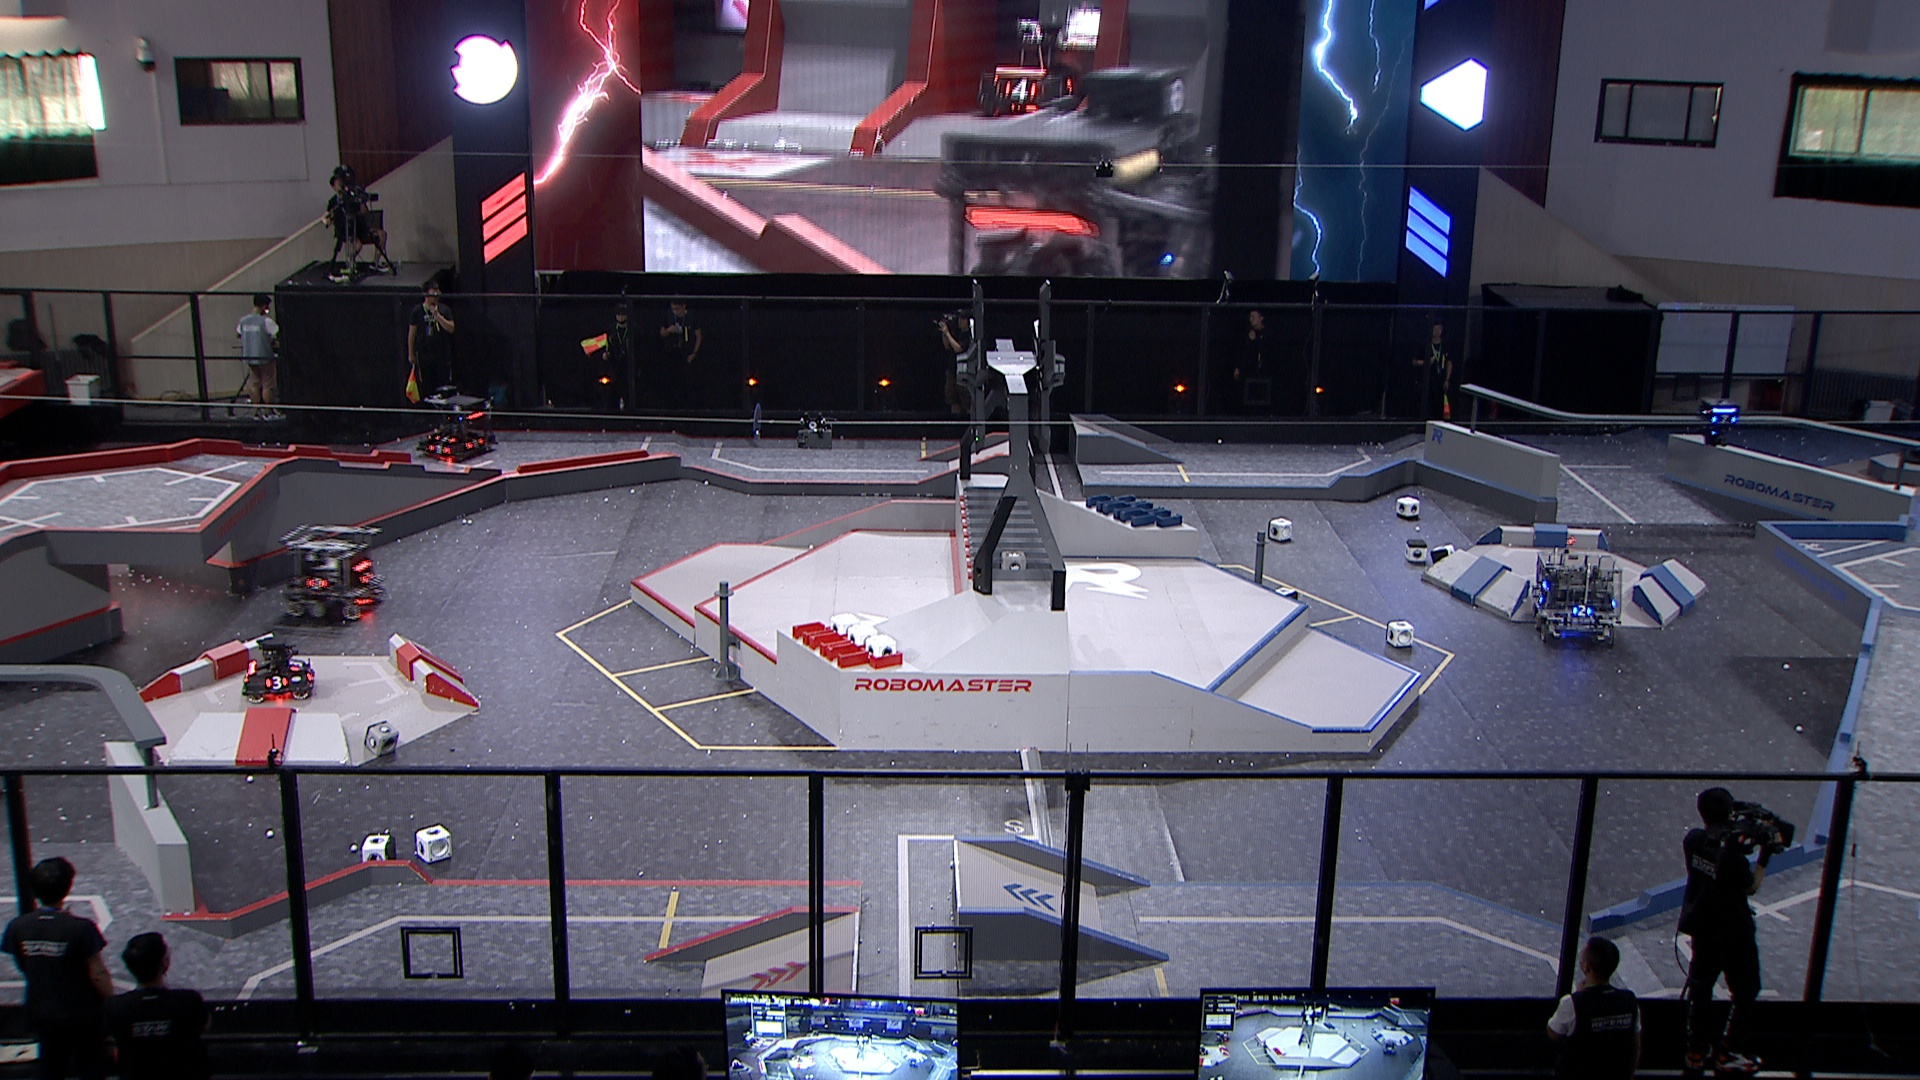armor: (262, 674, 290, 692), (1706, 413, 1741, 425), (305, 576, 328, 593), (1571, 603, 1596, 618), (429, 443, 452, 458), (462, 436, 487, 450), (286, 657, 305, 671), (433, 434, 458, 444), (1532, 591, 1545, 608), (361, 570, 376, 584)
car: (280, 522, 389, 626), (1527, 547, 1629, 641), (413, 386, 500, 460), (243, 636, 319, 704)
ignore: (942, 63, 1215, 285), (978, 18, 1083, 112)
watcher: (1695, 396, 1746, 451)
